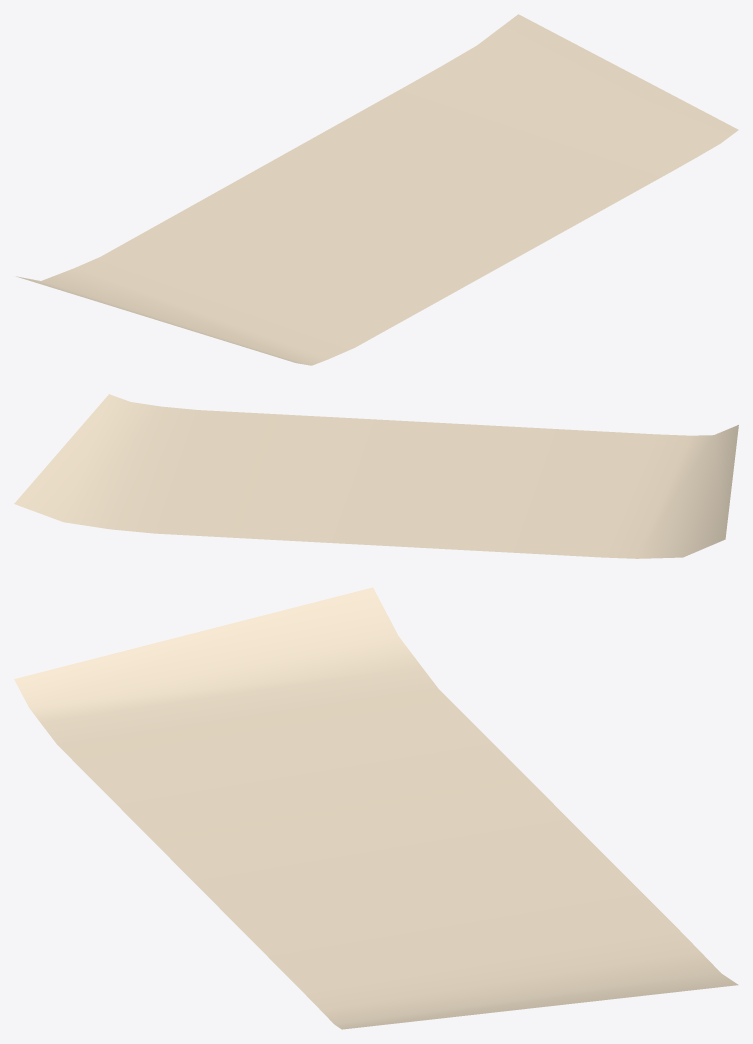
File: map_scrool.fbx
3 views of the same model, one above another, from view 1: azimuth 30°, elevation 25°; view 2: azimuth 150°, elevation 25°; view 3: azimuth 270°, elevation 25° (orthographic). The views are drawn at different scales.
Parts seen in each view (by area): view 1: Plane.092; view 2: Plane.092; view 3: Plane.092.
Part boxes in pixels (left/top/right/bottom): Plane.092: left=16, top=14, right=738, bottom=365; Plane.092: left=14, top=394, right=738, bottom=558; Plane.092: left=14, top=587, right=738, bottom=1029.
Size of the model in its own units: 169 by 6.43 by 123.
